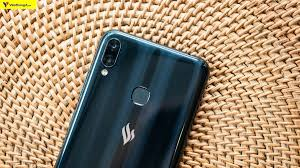vsmart: (46, 30, 211, 168)
